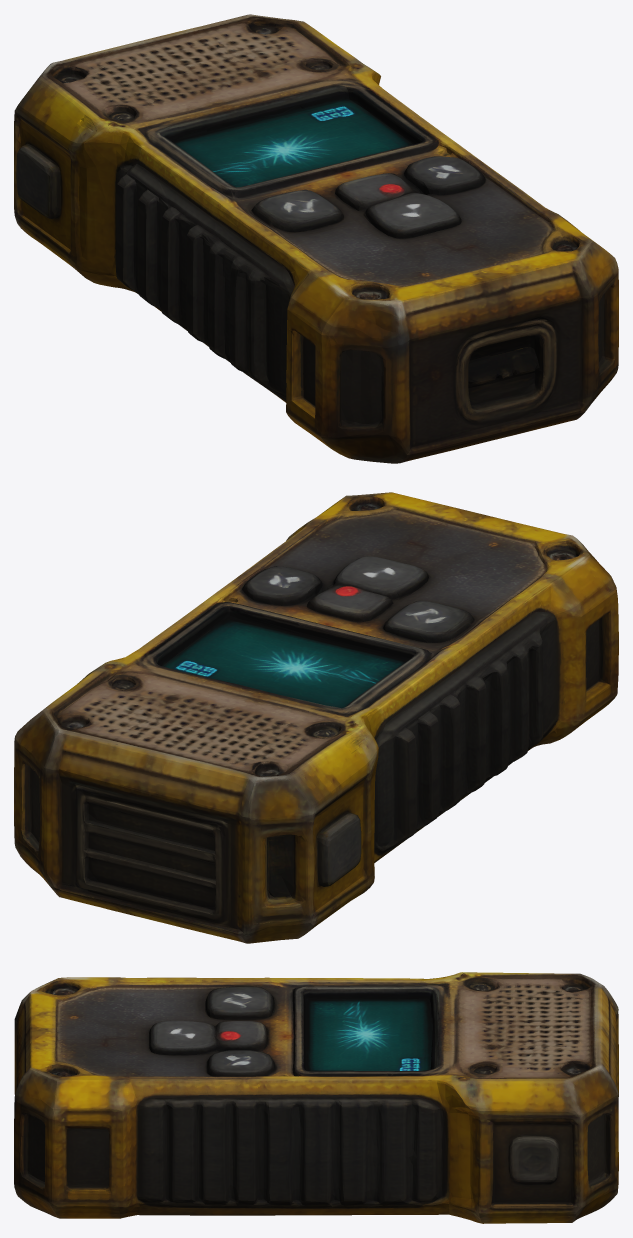
Rendered from hf_20261115_103741_5c08aef4-2ef6-47fa-b2d0-5b59f8f13e08.glb.
The picture shows the model from 3 angles, top to bottom: view 1: azimuth 30°, elevation 25°; view 2: azimuth 150°, elevation 25°; view 3: azimuth 270°, elevation 25°; orthographic projection. The views are drawn at different scales.
Visible parts, largest first — view 1: geometry_0; view 2: geometry_0; view 3: geometry_0.
Part boxes in pixels (box(x1,y1,x2,y2)): geometry_0: box(14, 14, 618, 463); geometry_0: box(14, 492, 618, 943); geometry_0: box(14, 972, 618, 1223).
Size of the model in its own units: 0.5069 by 0.2643 by 0.9982.
1 material, 1 textured.
